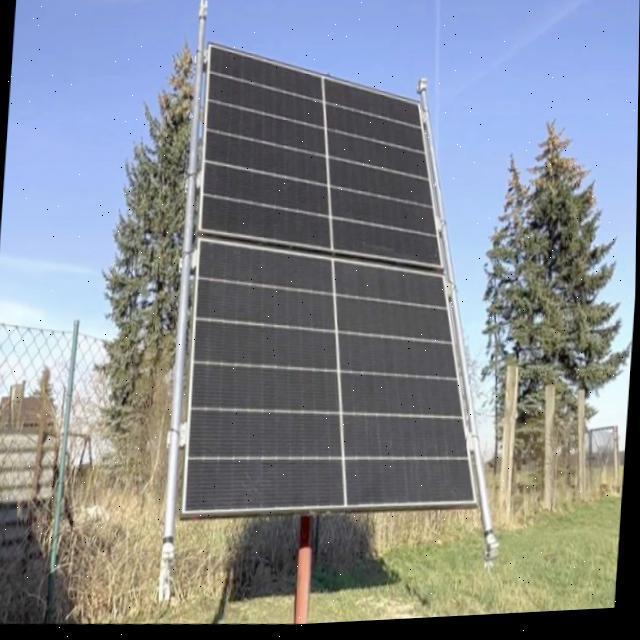Normal Solar Panel: (180, 33, 508, 531)
